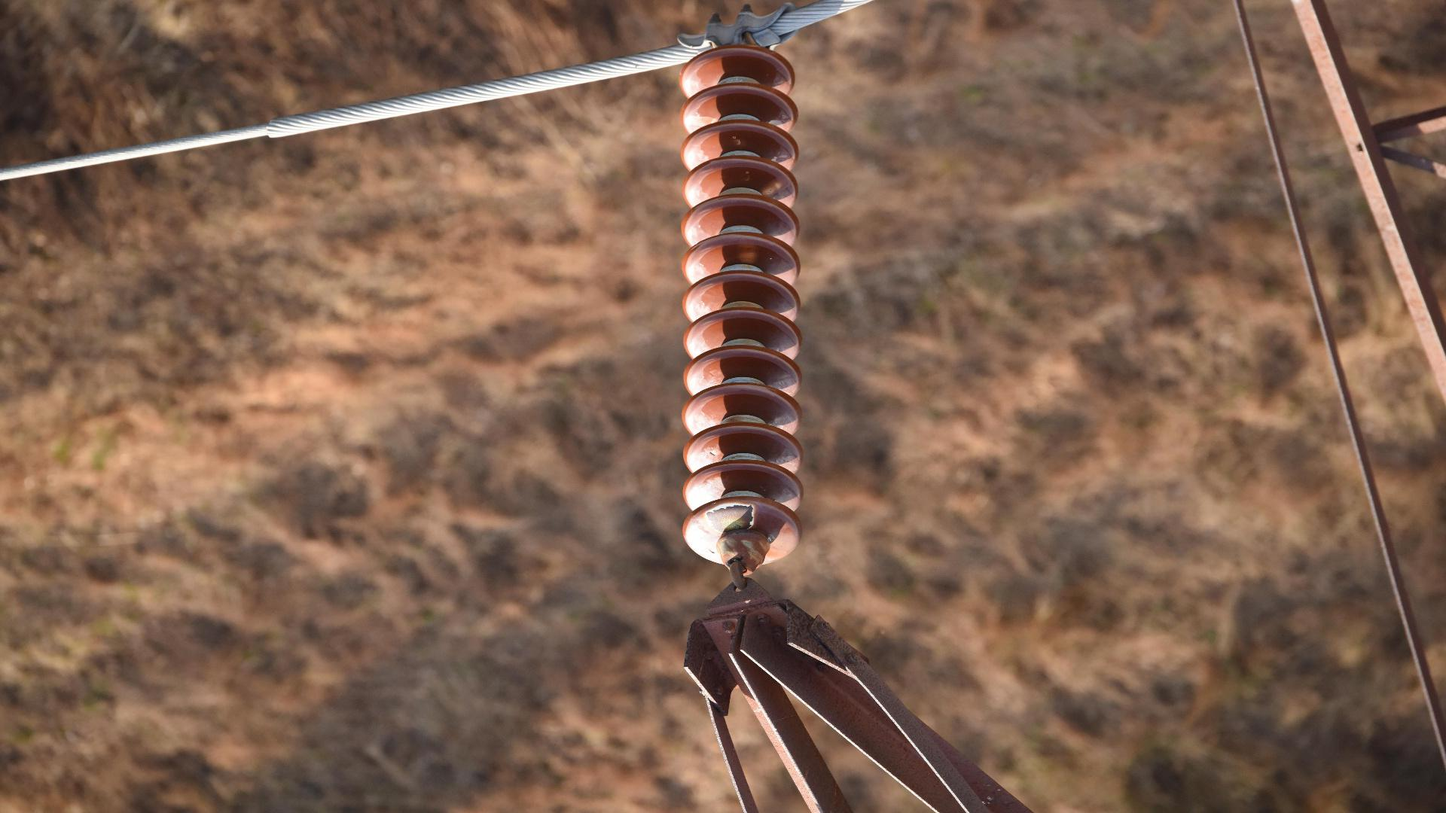insulator: (674, 42, 809, 571)
insulator_flashover: (704, 501, 758, 534)
